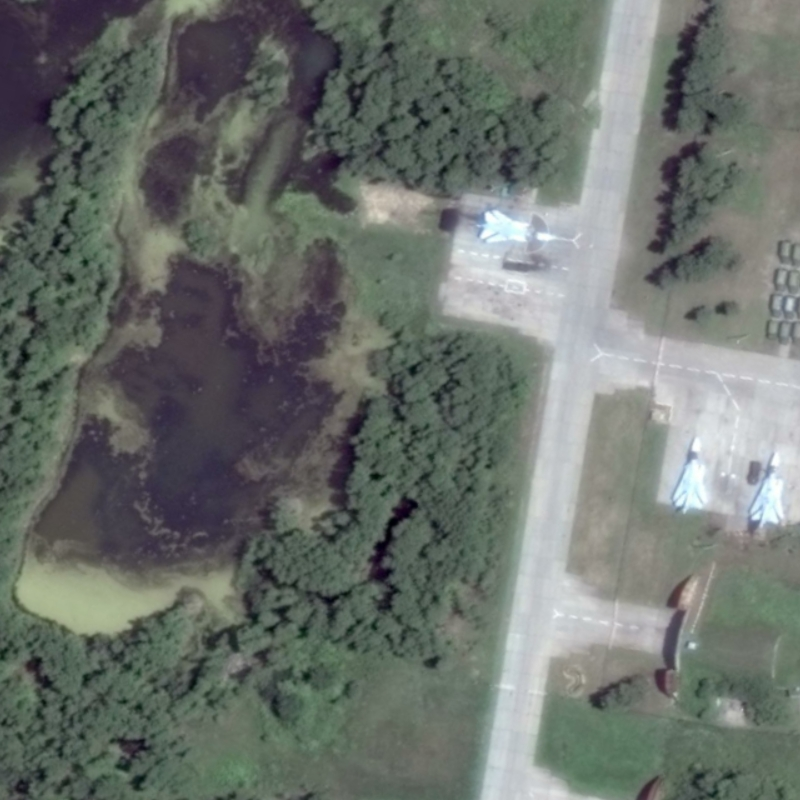A20: (671, 435, 712, 511), (478, 207, 558, 245), (748, 449, 787, 525)
